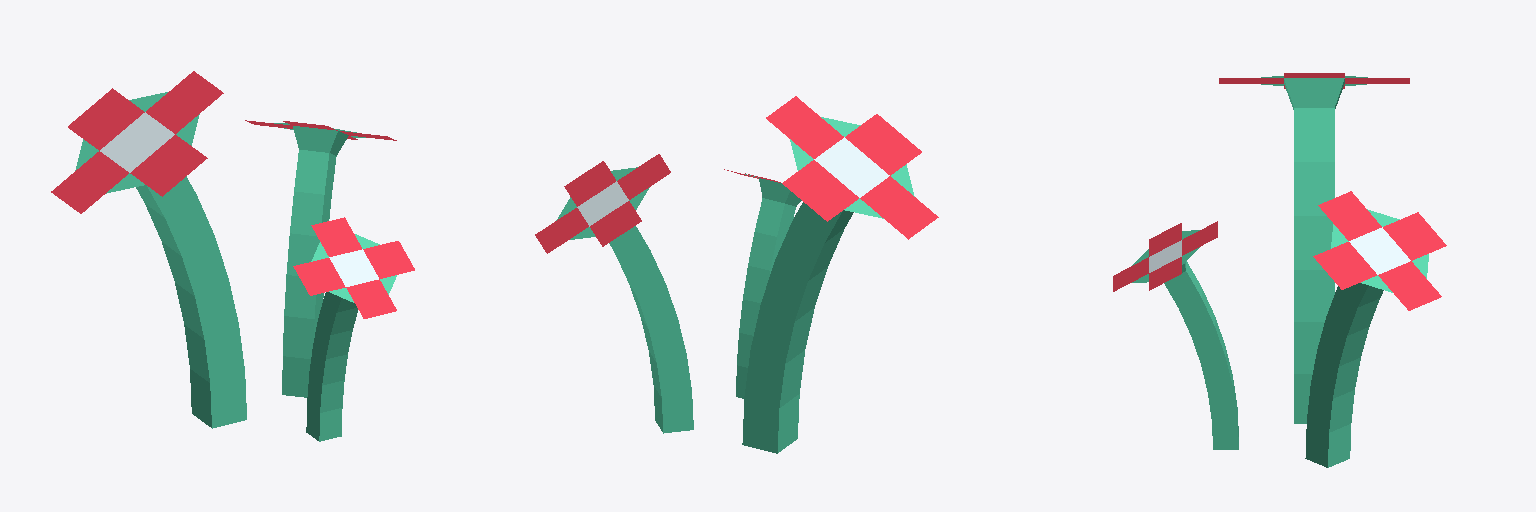
File: flowers.obj
3 renders of one model, left to right at view 1: azimuth 30°, elevation 25°; view 2: azimuth 150°, elevation 25°; view 3: azimuth 270°, elevation 25°, orthographic.
Visible parts, largest first — view 1: flowers; view 2: flowers; view 3: flowers.
Boxes of the visible parts, x1,y1,x2,y2 form: flowers: [51, 71, 414, 441]; flowers: [535, 96, 938, 453]; flowers: [1113, 73, 1446, 467].
Size of the model in its own units: 0.4975 by 0.464 by 0.4168.